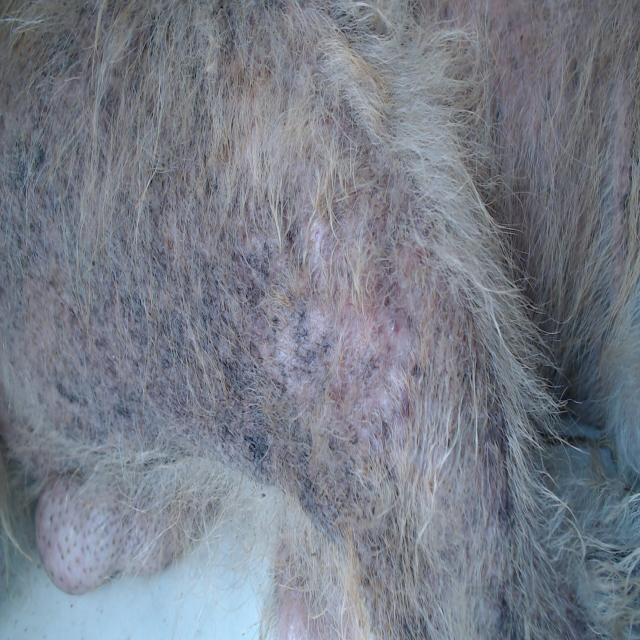demodicosis: (47, 219, 401, 507)
